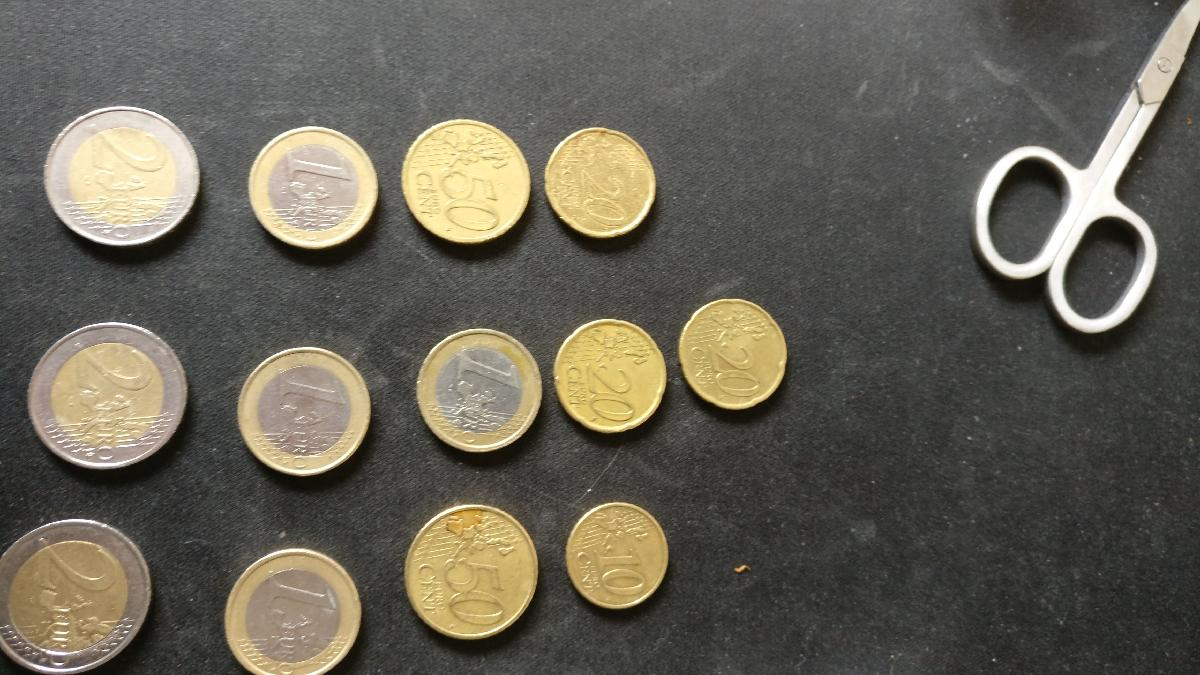Fifty Cent: (401, 500, 543, 639), (401, 117, 532, 241)
One Euro: (236, 348, 374, 485), (248, 125, 381, 251), (223, 548, 359, 671), (416, 328, 546, 450)
Ten Cent: (559, 498, 680, 611)
Twenty Cent: (553, 317, 670, 437), (539, 126, 659, 241), (680, 301, 787, 415)
Two Euro: (37, 105, 205, 254), (31, 323, 190, 471), (1, 516, 152, 667)
